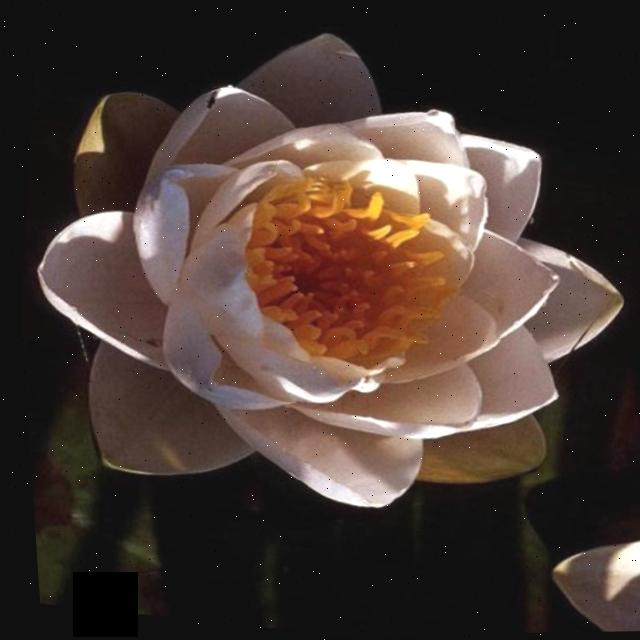rose: (1, 7, 640, 627)
